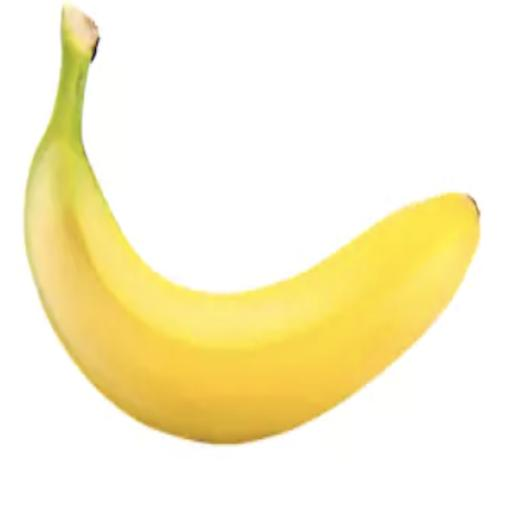banana: (26, 6, 479, 442)
